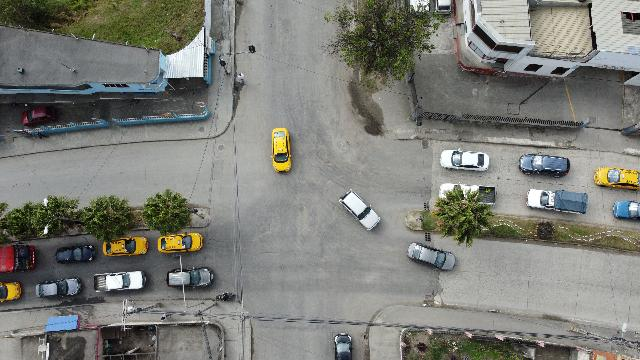Vehiculo: (340, 190, 380, 231), (526, 190, 588, 214), (407, 243, 455, 271), (439, 183, 495, 205), (518, 154, 570, 176), (594, 166, 640, 190), (440, 149, 490, 171), (94, 271, 146, 291), (157, 232, 203, 254), (1, 244, 36, 272), (166, 268, 214, 288), (102, 236, 148, 256), (36, 278, 80, 298), (271, 128, 291, 172), (56, 245, 95, 263), (22, 106, 54, 126), (612, 201, 640, 219), (334, 333, 352, 359), (1, 281, 22, 301), (435, 0, 452, 15)
